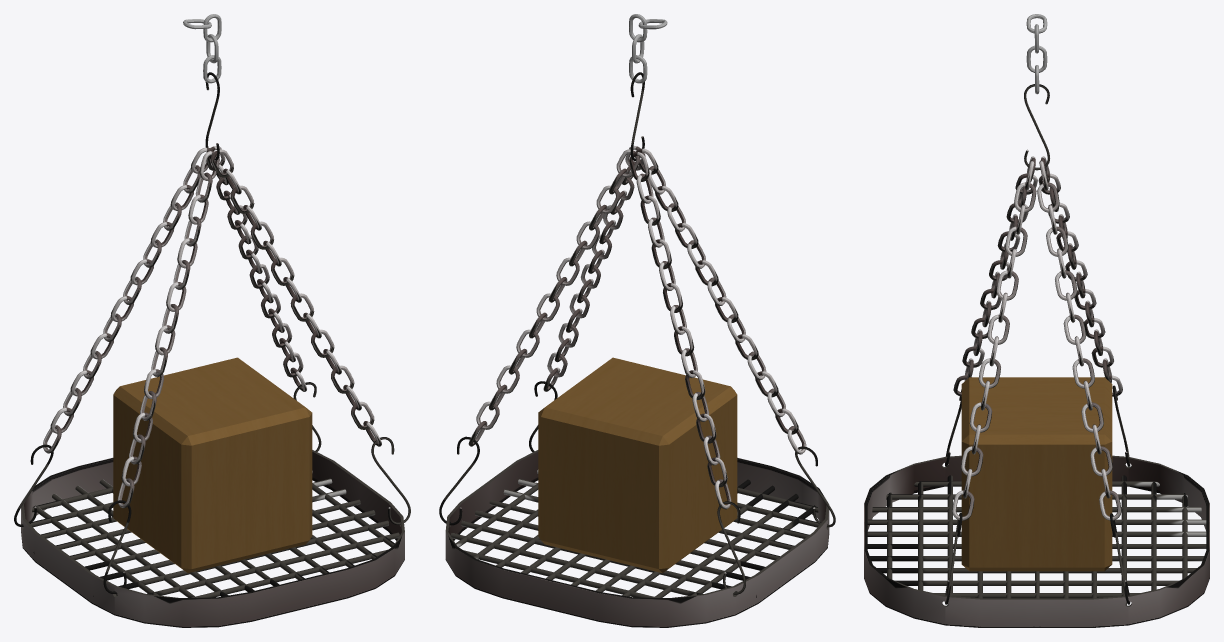
Rendered from rifuto_B.fbx.
The picture shows the model from 3 angles, left to right: view 1: azimuth 30°, elevation 25°; view 2: azimuth 150°, elevation 25°; view 3: azimuth 270°, elevation 25°; orthographic projection.
Visible parts, largest first — view 1: rihuto_b; view 2: rihuto_b; view 3: rihuto_b.
Part boxes in pixels (x1=…): rihuto_b: x1=14, y1=14, x2=410, y2=627; rihuto_b: x1=439, y1=14, x2=835, y2=627; rihuto_b: x1=864, y1=14, x2=1209, y2=627.
Size of the model in its own units: 59.85 by 99.26 by 58.65.
